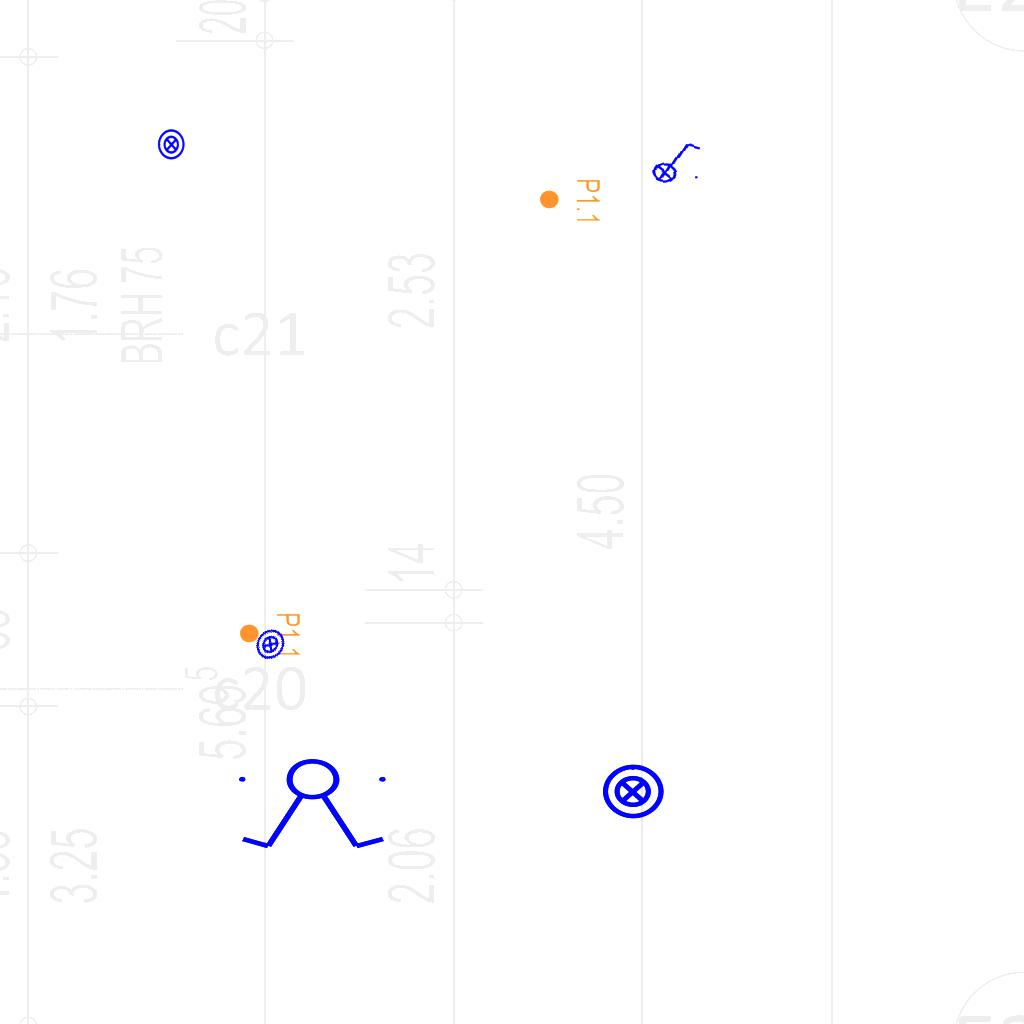Ausschalter_beleuchtet: (643, 133, 707, 189)
Downlight_LED_Einbauleuchten_Flur: (238, 612, 302, 658), (538, 178, 602, 224)
Serienschalter: (230, 757, 398, 853)
Taster_beleuchtet: (600, 759, 666, 825), (247, 621, 294, 668), (155, 128, 188, 161)
